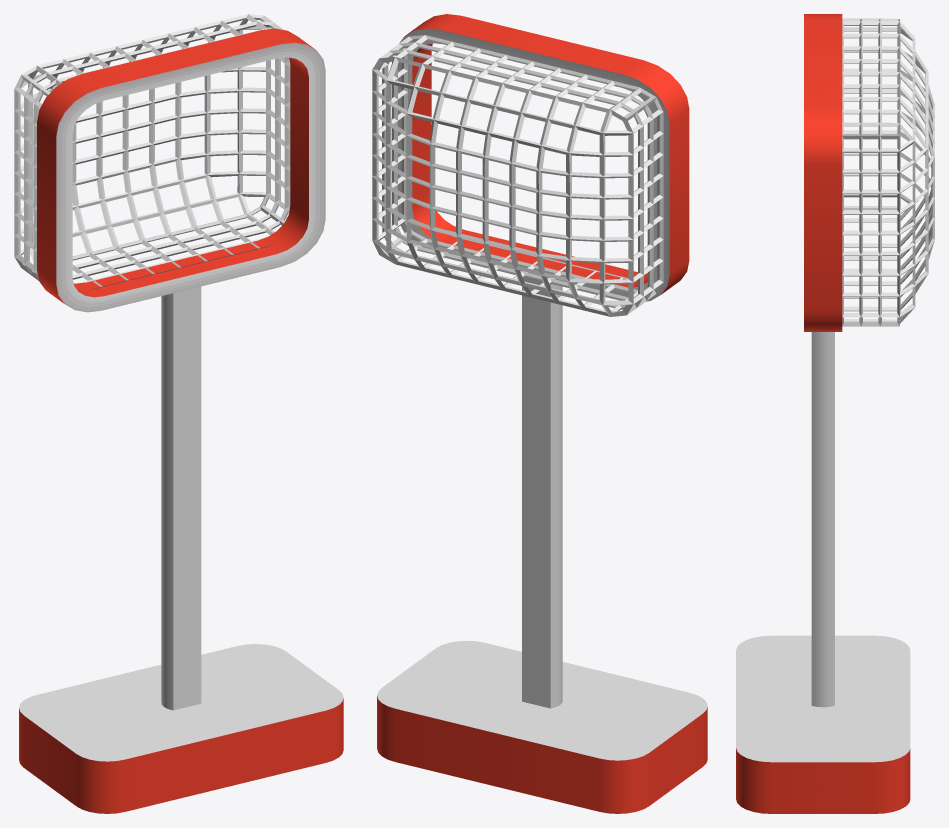
The model's file is Goal Stick Square Grid.fbx.
3 renders of one model, left to right at view 1: azimuth 30°, elevation 25°; view 2: azimuth 150°, elevation 25°; view 3: azimuth 270°, elevation 25°, orthographic. The views are drawn at different scales.
Visible parts, largest first — view 1: Goal Stick Square Grid, Goal Stick Square Grid.003, Goal Stick Square Grid.002; view 2: Goal Stick Square Grid, Goal Stick Square Grid.003, Goal Stick Square Grid.002; view 3: Goal Stick Square Grid, Goal Stick Square Grid.003, Goal Stick Square Grid.002.
Boxes of the visible parts, x1,y1,x2,y2 form: Goal Stick Square Grid: (14, 14, 325, 312); Goal Stick Square Grid.003: (19, 644, 343, 813); Goal Stick Square Grid.002: (161, 286, 201, 710); Goal Stick Square Grid: (372, 14, 689, 316); Goal Stick Square Grid.003: (377, 640, 707, 813); Goal Stick Square Grid.002: (522, 277, 562, 708); Goal Stick Square Grid: (804, 14, 934, 331); Goal Stick Square Grid.003: (736, 635, 910, 813); Goal Stick Square Grid.002: (811, 332, 834, 707).
Bounding box in the file's own units: 211 × 522 × 137.
